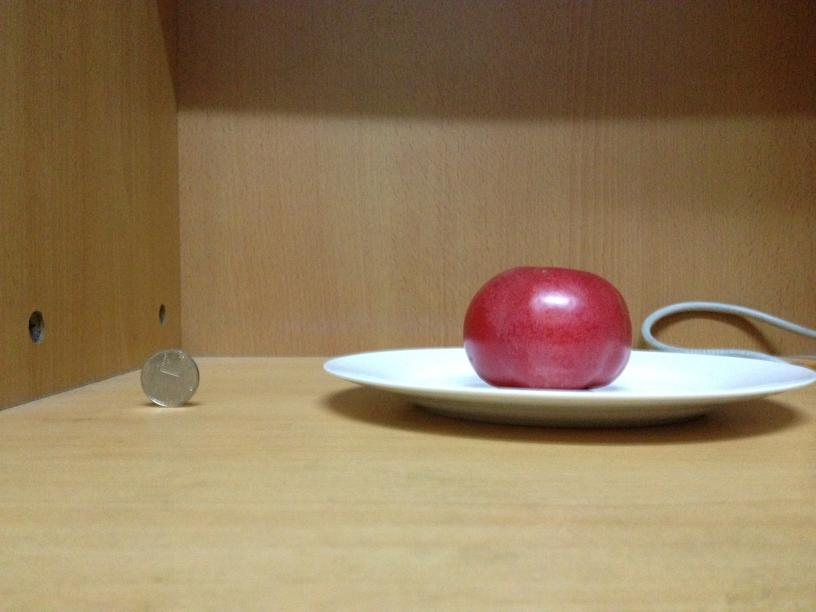coin: (137, 348, 201, 407)
tomato: (456, 267, 631, 387)
